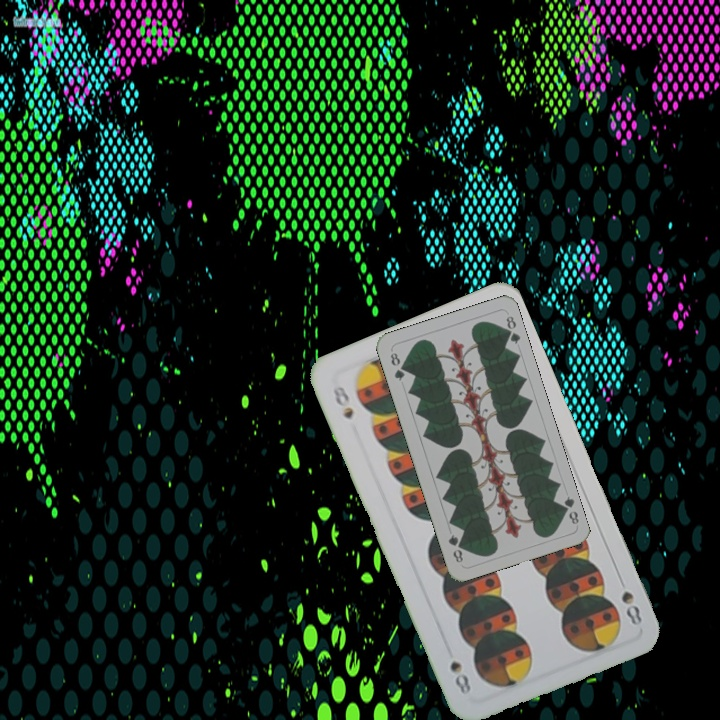G8: (556, 492, 582, 527), (386, 348, 407, 384)
S8: (613, 571, 645, 629), (328, 382, 356, 422)
